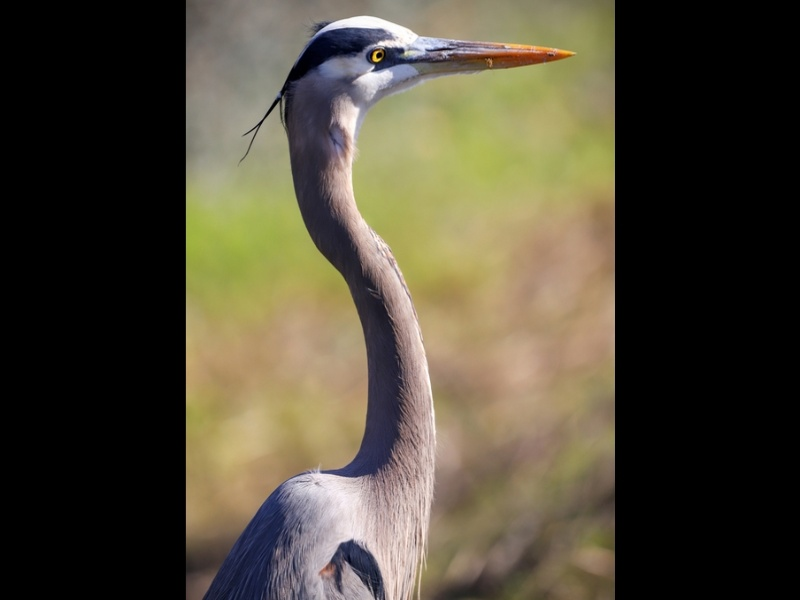heron: (201, 15, 578, 596)
